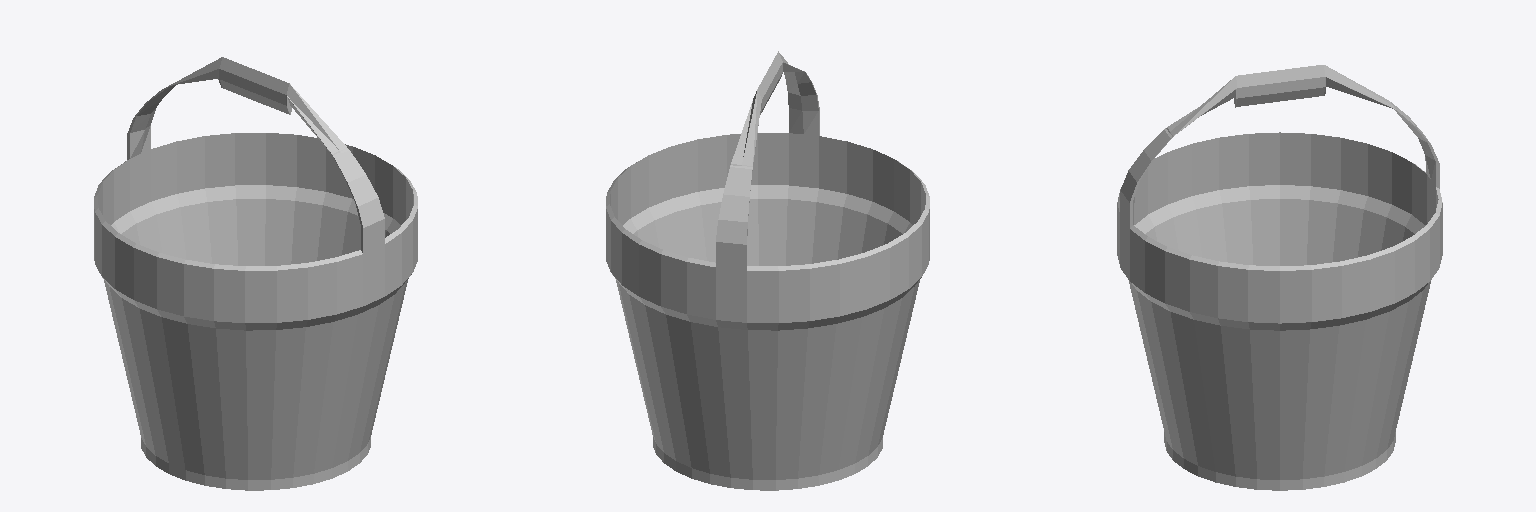
File: Bucket.obj
The picture shows the model from 3 angles: view 1: azimuth 30°, elevation 25°; view 2: azimuth 150°, elevation 25°; view 3: azimuth 270°, elevation 25°; orthographic projection.
Parts seen in each view (by area): view 1: Cylinder; view 2: Cylinder; view 3: Cylinder.
Boxes of the visible parts, box(x1,y1,x2,y2) form: Cylinder: box(94, 57, 417, 490); Cylinder: box(606, 51, 929, 490); Cylinder: box(1117, 65, 1442, 490).
Size of the model in its own units: 2.81 by 3.55 by 2.81.